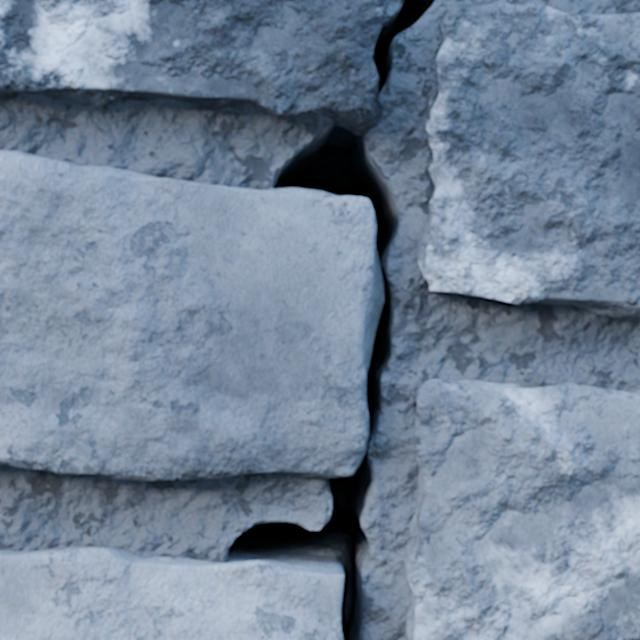crack: (0, 0, 435, 639), (417, 0, 639, 318), (404, 379, 639, 639)
